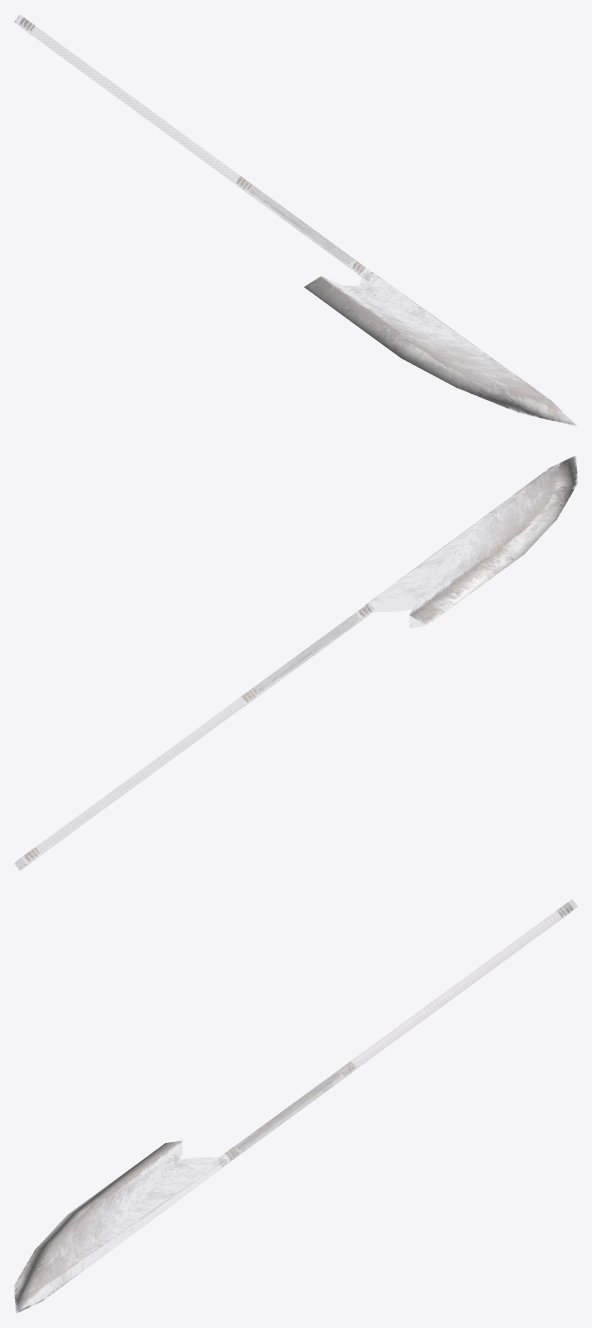
The model's file is tblade_01.glb.
The picture shows the model from 3 angles, top to bottom: view 1: azimuth 30°, elevation 25°; view 2: azimuth 150°, elevation 25°; view 3: azimuth 330°, elevation 25°; orthographic projection.
Parts seen in each view (by area): view 1: tblade_01; view 2: tblade_01; view 3: tblade_01.
Part boxes in pixels (bbox=[...]): tblade_01: bbox=[14, 15, 575, 425]; tblade_01: bbox=[16, 456, 577, 869]; tblade_01: bbox=[14, 900, 576, 1312].
Bounding box in the file's own units: 0.1528 × 0.0292 × 2.22.
Materials: 1 (1 with a texture image).
